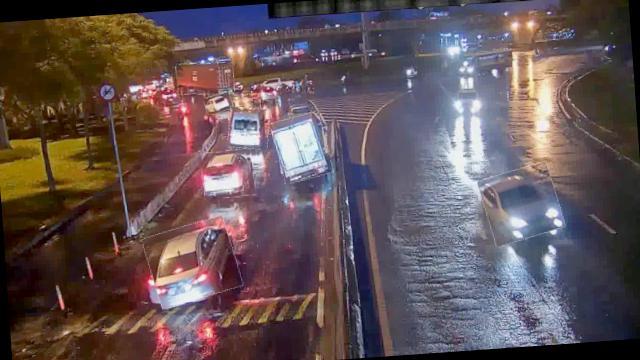Bus: (272, 112, 332, 182), (226, 105, 270, 151)
Car: (144, 218, 240, 306), (478, 163, 562, 243), (200, 148, 255, 199), (204, 92, 233, 114)
Truck: (174, 61, 234, 96)
